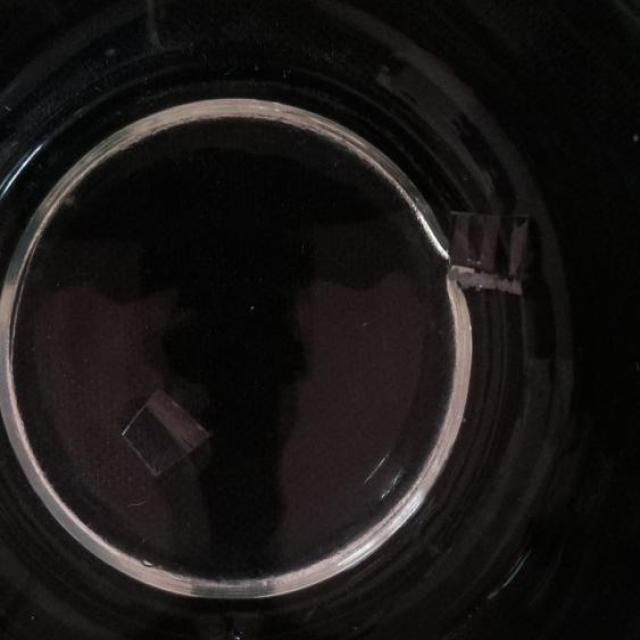fiber: (443, 207, 542, 311), (114, 380, 212, 482)
